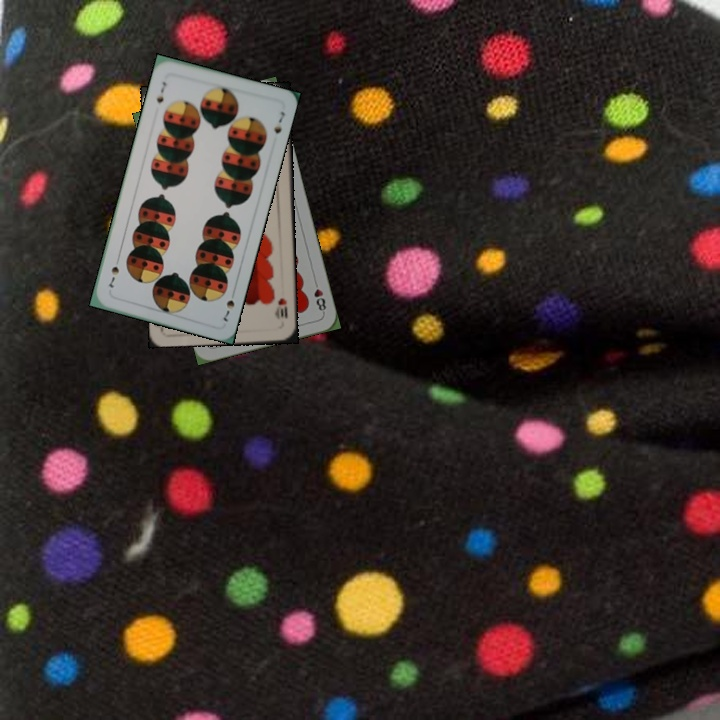H10: (272, 294, 290, 321)
H8: (310, 276, 329, 316)
S7: (219, 286, 238, 324), (152, 77, 169, 106)
